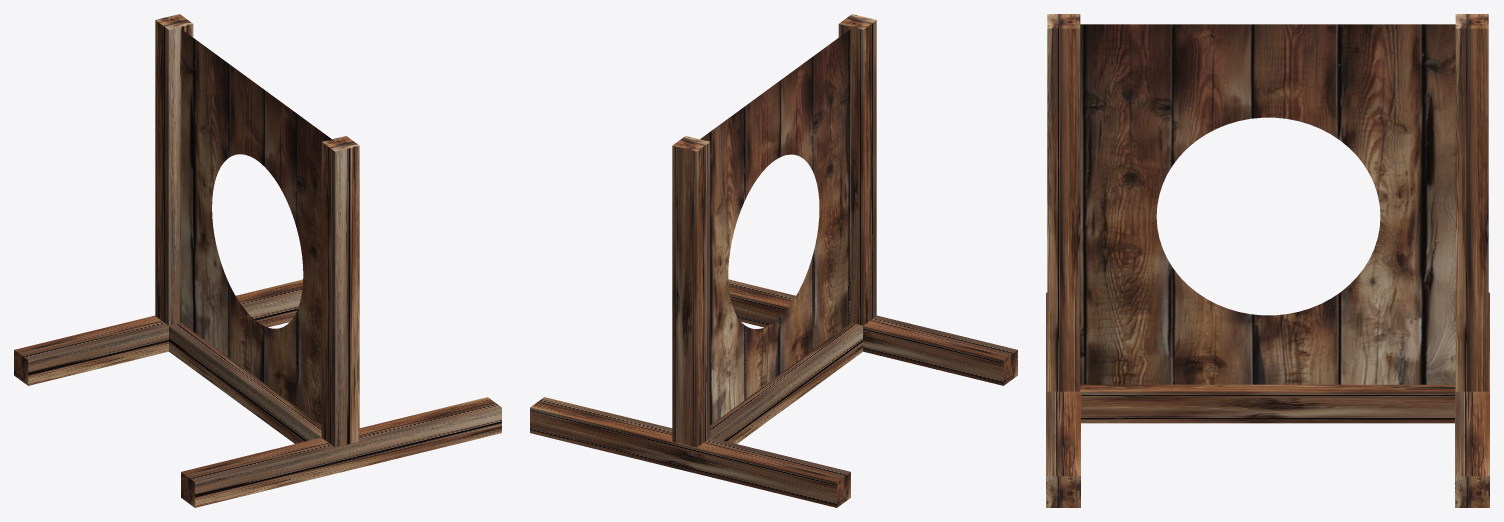
Rendered from Lapimeno3D.glb.
The picture shows the model from 3 angles, left to right: view 1: azimuth 30°, elevation 25°; view 2: azimuth 150°, elevation 25°; view 3: azimuth 270°, elevation 25°; orthographic projection. The views are drawn at different scales.
Parts seen in each view (by area): view 1: Cube.001; view 2: Cube.001; view 3: Cube.001.
Part boxes in pixels (box(x1,y1,x2,y2)): Cube.001: box(14, 14, 501, 507); Cube.001: box(530, 14, 1017, 507); Cube.001: box(1046, 14, 1489, 507).
Bounding box in the file's own units: 0.4813 × 0.4821 × 0.4914.
Materials: 1 (1 with a texture image).
